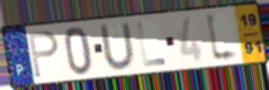0: (63, 25, 94, 77)
4: (178, 15, 205, 65)
L: (204, 10, 242, 65), (135, 21, 168, 69)
P: (26, 29, 60, 80)
U: (97, 21, 138, 72)
